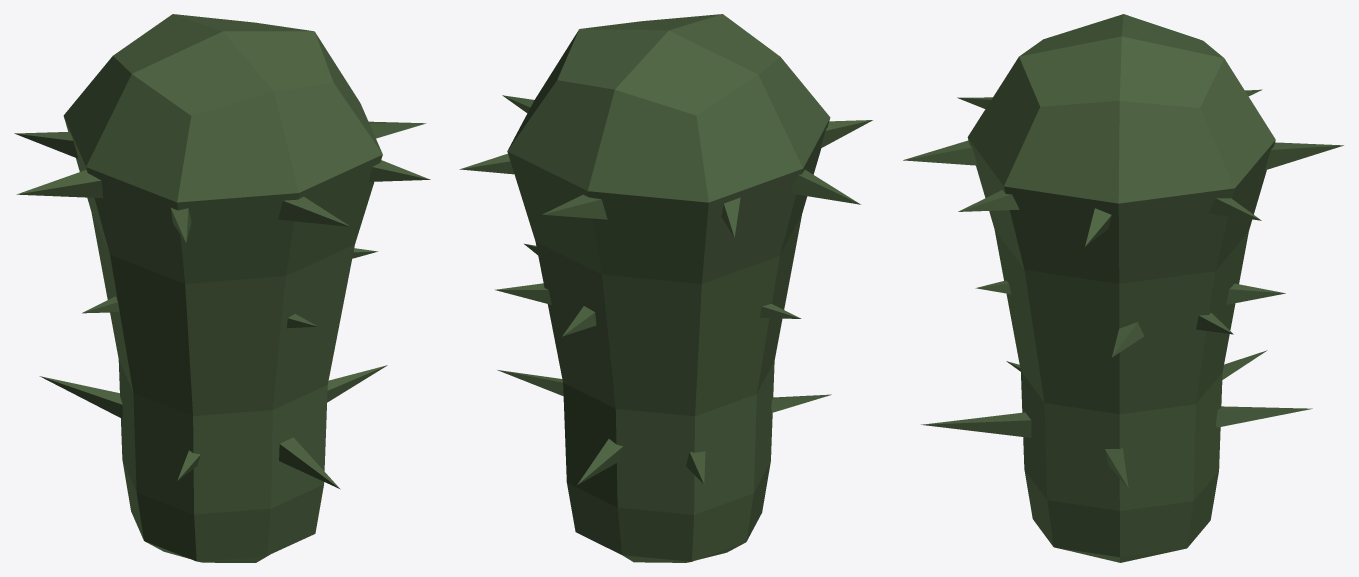
Rendered from Cactus_2.glb.
The picture shows the model from 3 angles, left to right: view 1: azimuth 30°, elevation 25°; view 2: azimuth 150°, elevation 25°; view 3: azimuth 270°, elevation 25°; orthographic projection.
Visible parts, largest first — view 1: Cactus_2_Cube.018; view 2: Cactus_2_Cube.018; view 3: Cactus_2_Cube.018.
Part boxes in pixels (x1,y1,x2,y2): Cactus_2_Cube.018: (14, 14, 430, 562); Cactus_2_Cube.018: (459, 14, 872, 562); Cactus_2_Cube.018: (903, 14, 1343, 562).
Size of the model in its own units: 0.2978 by 0.3779 by 0.3011.
